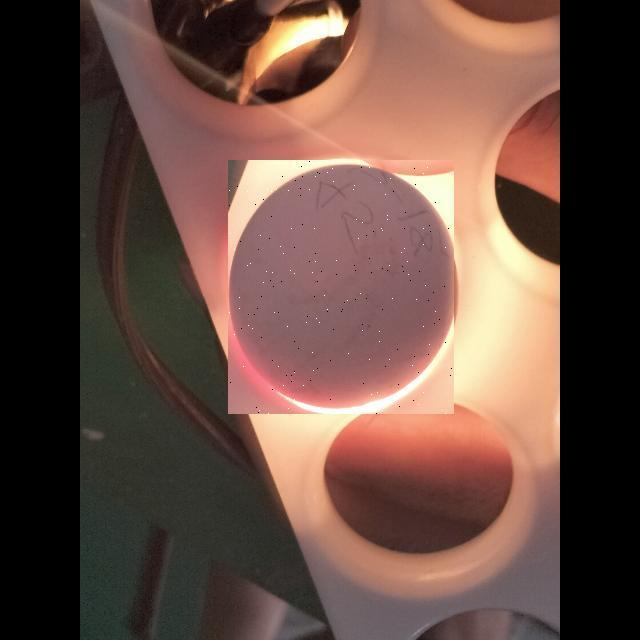A - Good: (231, 157, 458, 412)
